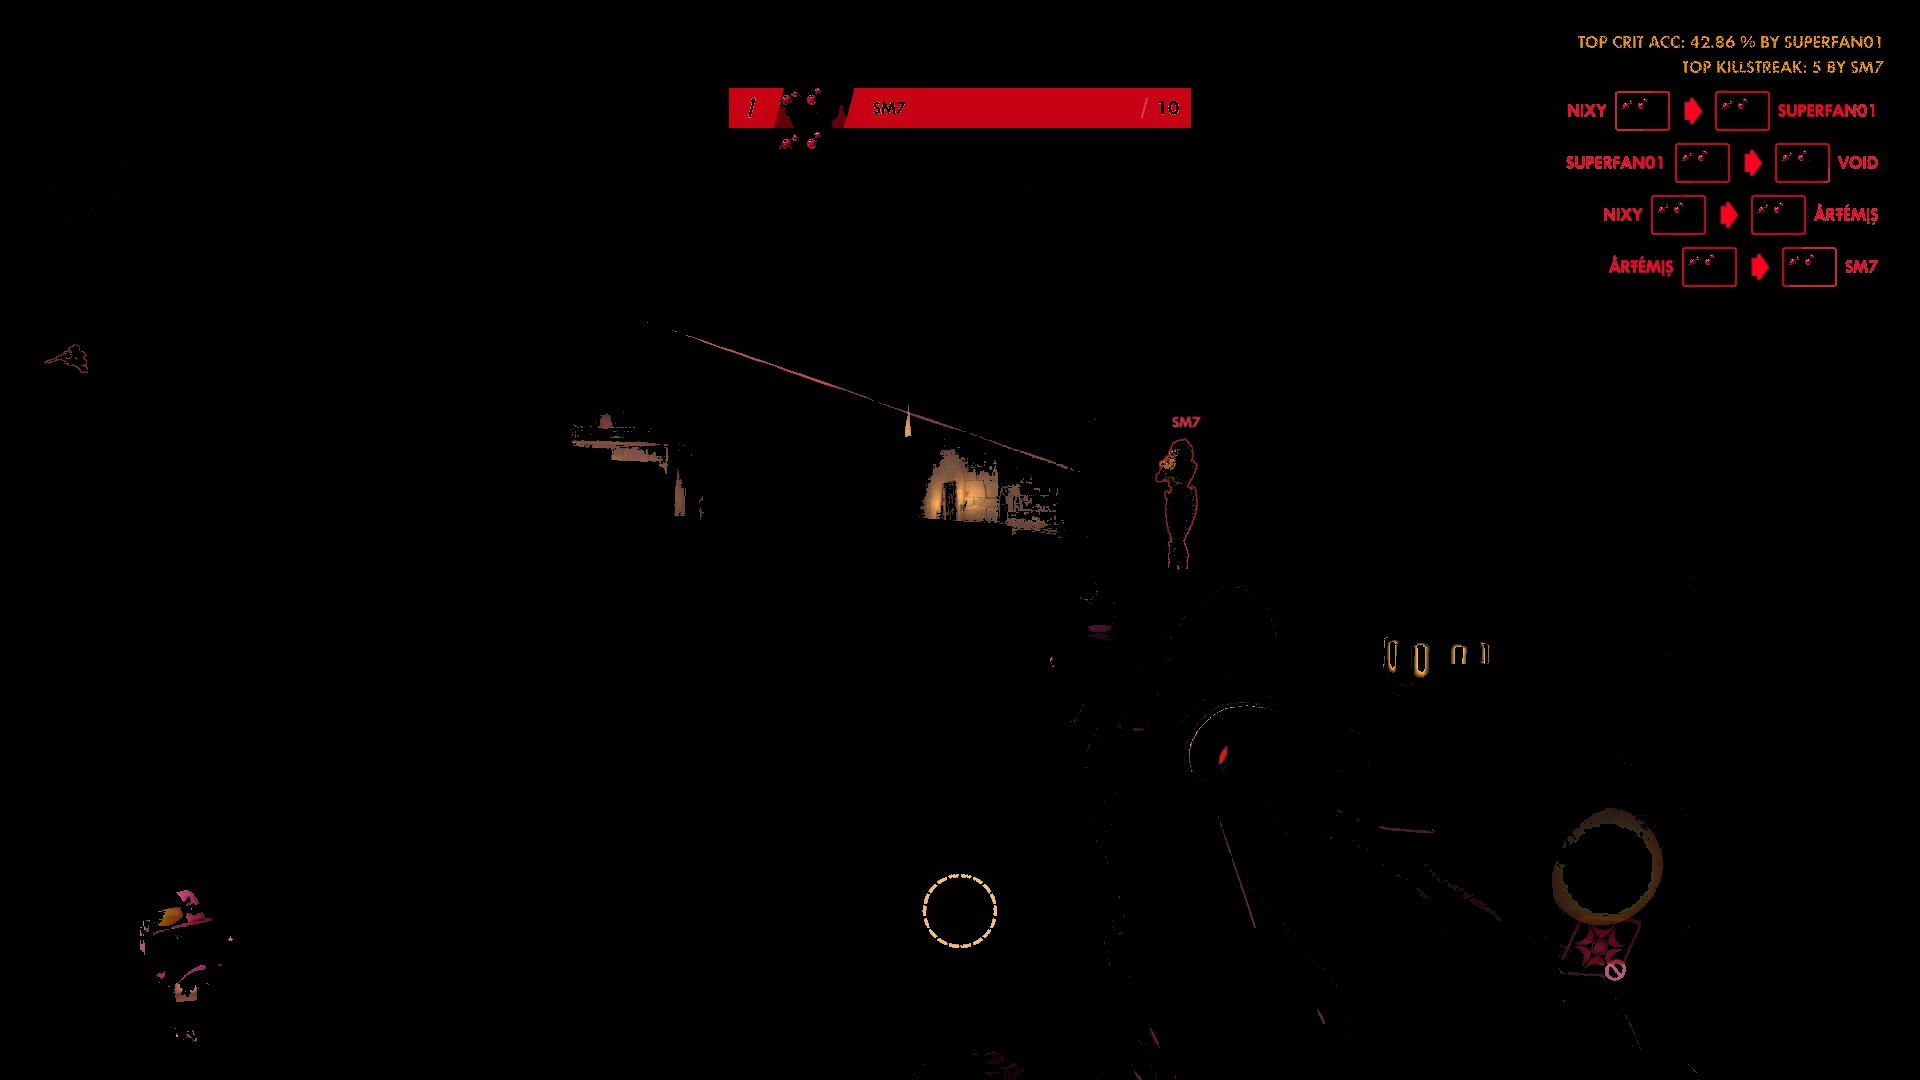widowmaker: (1154, 438, 1197, 574), (61, 339, 88, 378)
